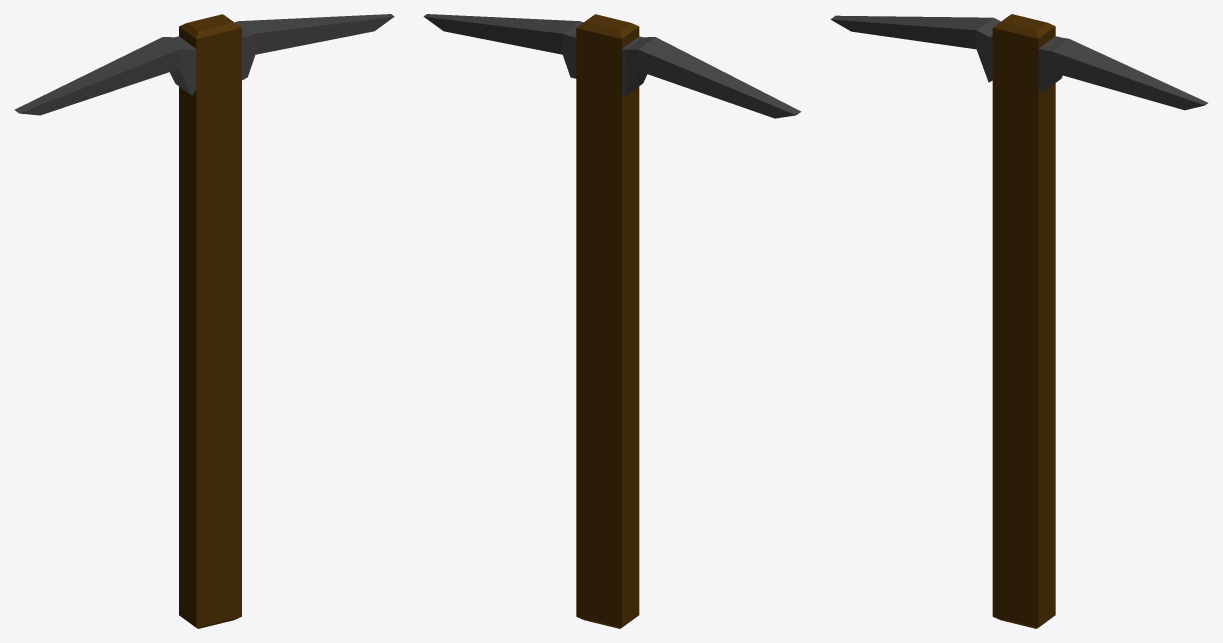
File: Pickaxe.fbx
3 renders of one model, left to right at view 1: azimuth 30°, elevation 25°; view 2: azimuth 150°, elevation 25°; view 3: azimuth 330°, elevation 25°, orthographic.
Visible parts, largest first — view 1: Pickaxe; view 2: Pickaxe; view 3: Pickaxe.
Boxes of the visible parts, x1=… form: Pickaxe: x1=14, y1=14, x2=394, y2=628; Pickaxe: x1=423, y1=14, x2=801, y2=628; Pickaxe: x1=830, y1=14, x2=1207, y2=628.
Bounding box in the file's own units: 314 × 478 × 25.
